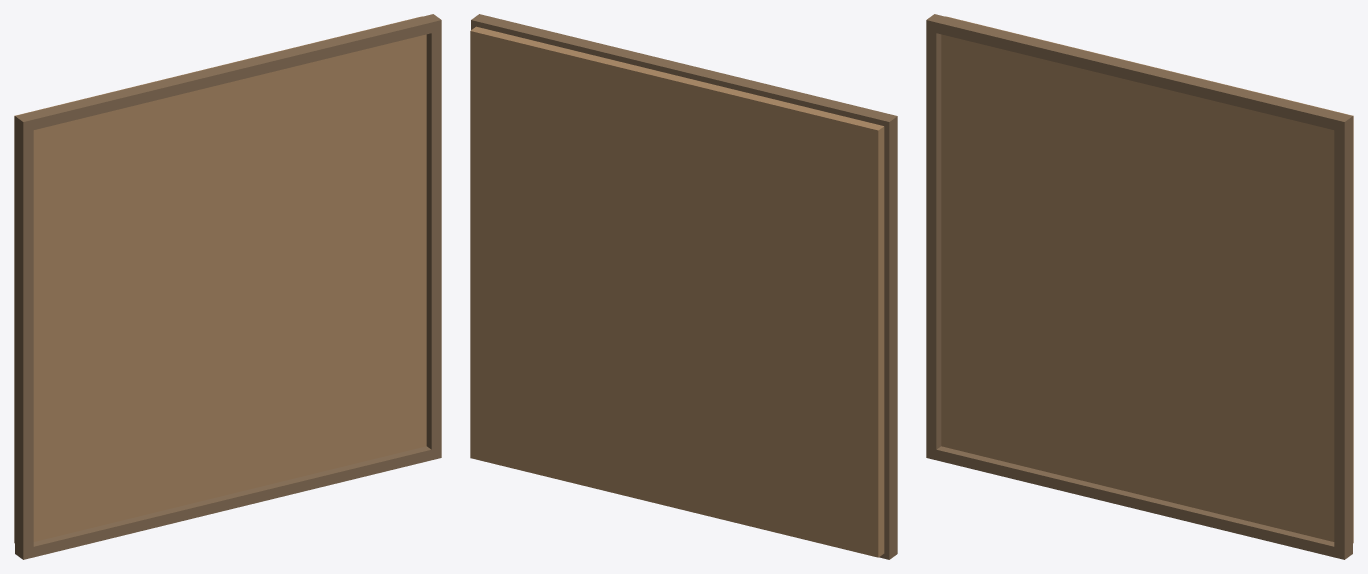
The model's file is mod_floor_wood_4x4.glb.
3 views of the same model, side by side, from view 1: azimuth 30°, elevation 25°; view 2: azimuth 150°, elevation 25°; view 3: azimuth 330°, elevation 25° (orthographic).
Parts seen in each view (by area): view 1: planks, trim_n, trim_w, trim_e, trim_s; view 2: planks, trim_n, trim_w; view 3: planks, trim_n, trim_e, trim_w, trim_s.
Boxes of the visible parts, <box> form: planks: <box>14,16,426,543</box>; trim_n: <box>15,14,441,132</box>; trim_w: <box>15,113,33,559</box>; trim_e: <box>426,14,441,459</box>; trim_s: <box>15,446,441,559</box>; planks: <box>470,26,884,557</box>; trim_n: <box>471,14,897,132</box>; trim_w: <box>879,114,897,549</box>; planks: <box>941,16,1353,543</box>; trim_n: <box>926,14,1352,132</box>; trim_e: <box>1334,113,1352,559</box>; trim_w: <box>926,15,941,459</box>; trim_s: <box>926,446,1352,559</box>.
Bounding box in the file's own units: 4.1 × 4.1 × 0.24.
